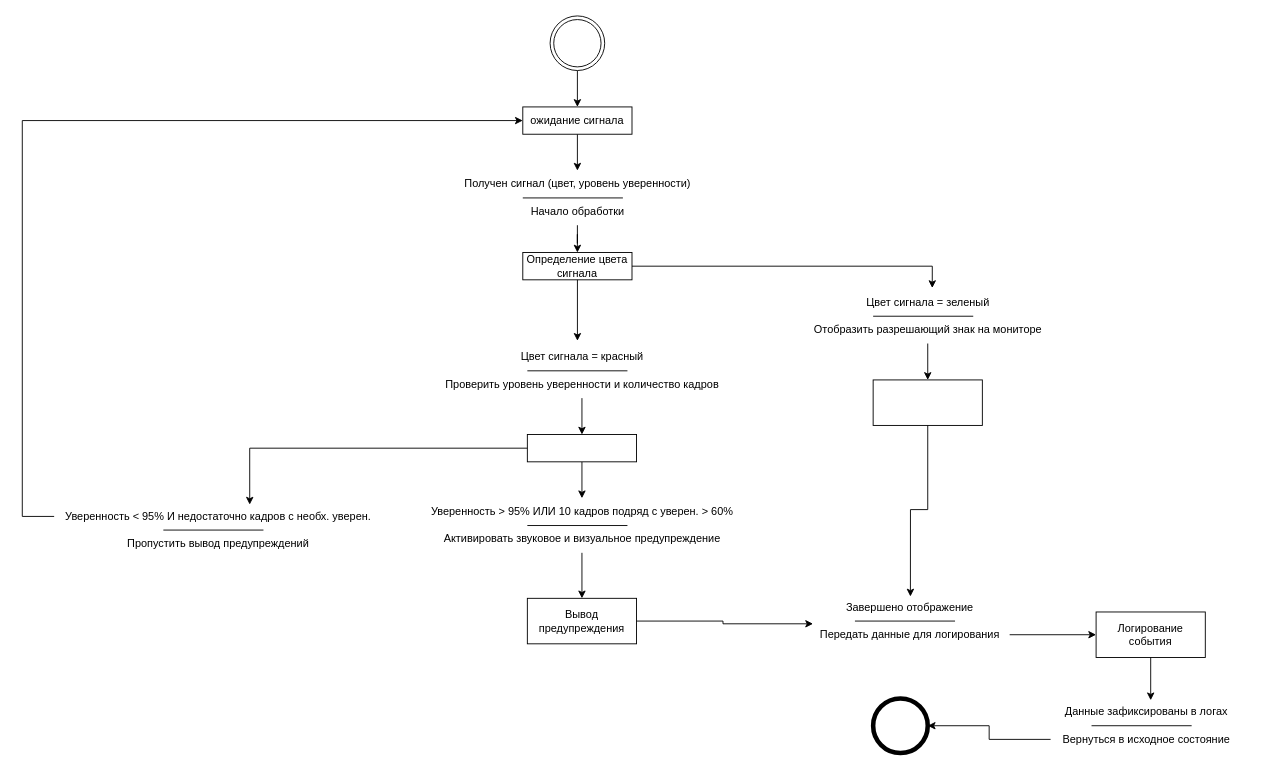
Image size: 1285x771. Some labels were removed from this diagram. Here are the shapes that lost their labels. From the top down, the centre of each, then its label:
At (927,402): "Вывод разрешающего знака".
At (581,448): "Проверка условий (красный сигнал)".
